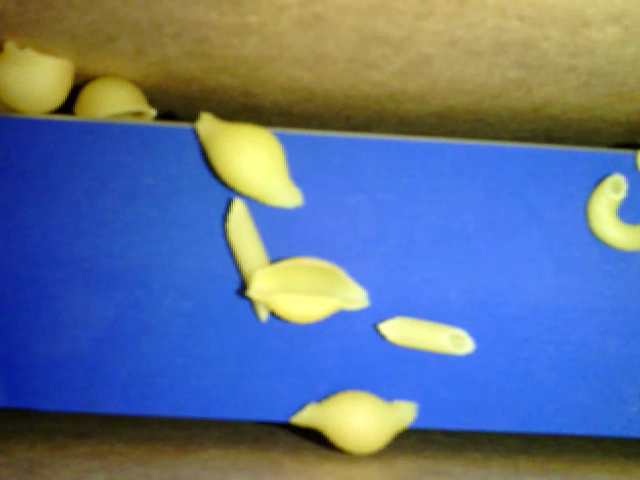elbow: (585, 167, 639, 251)
penne: (220, 193, 269, 318), (373, 314, 473, 356)
shell: (195, 109, 307, 208), (288, 385, 418, 454), (247, 254, 368, 321), (1, 51, 80, 112), (70, 73, 162, 124)
